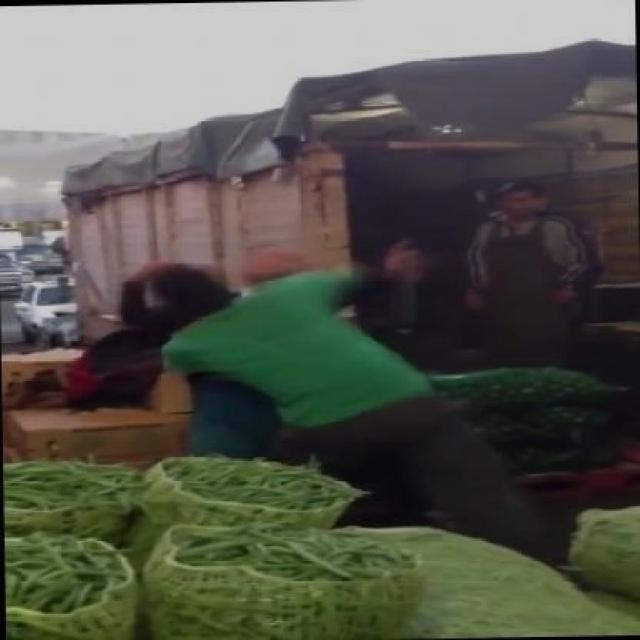fight: (118, 230, 550, 564)
non-fight: (449, 164, 614, 370)
